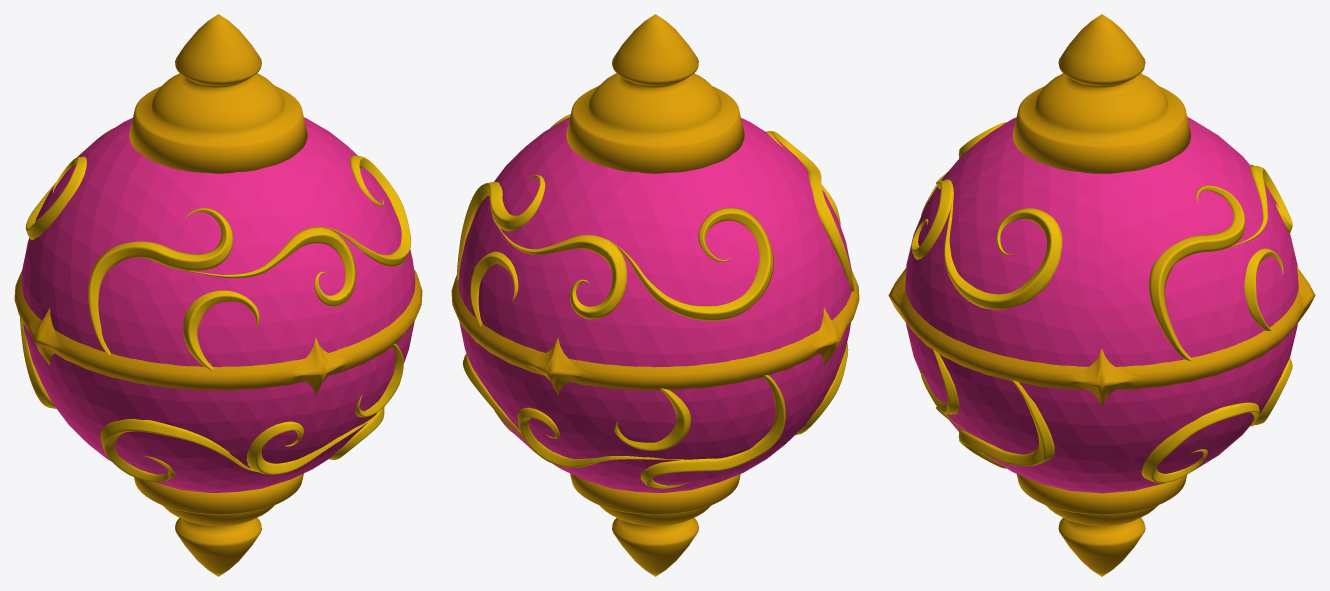
The model's file is ultrasphere.glb.
3 views of the same model, side by side, from view 1: azimuth 30°, elevation 25°; view 2: azimuth 150°, elevation 25°; view 3: azimuth 270°, elevation 25° (orthographic).
Visible parts, largest first — view 1: Plane; view 2: Plane; view 3: Plane.
Part boxes in pixels (x1,y1,x2,y2): Plane: (14, 14, 422, 576); Plane: (451, 14, 859, 576); Plane: (888, 14, 1315, 576).
Size of the model in its own units: 2.16 by 3.14 by 2.16.
